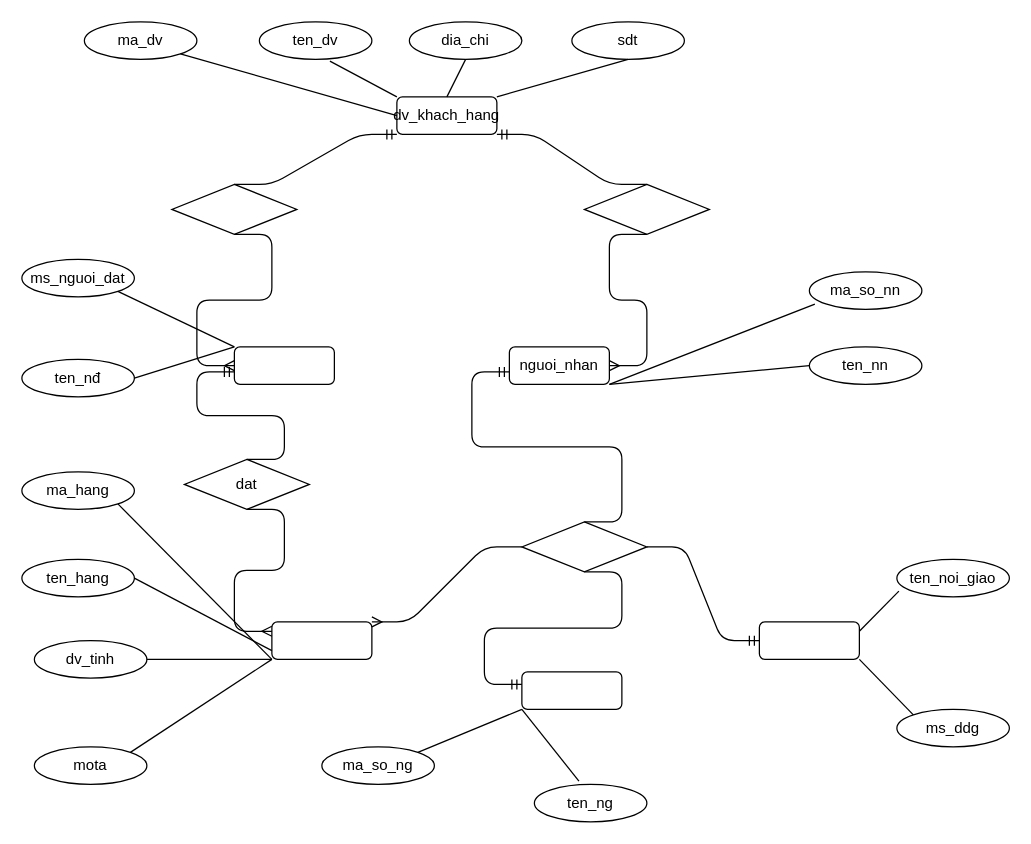
Image size: 1031x844. Some labels were removed from this diagram. The shapes that lost their labels are listed below. From the top down, each one's centre as x and y in pixels, then its label:
At point 234,208: "thuoc1".
At point 646,208: "thuoc2".
At point 283,365: "ngươi_dat".
At point 584,546: "giao".
At point 321,640: "hang".
At point 808,640: "noi_giao".
At point 571,690: "nguoigiao".
